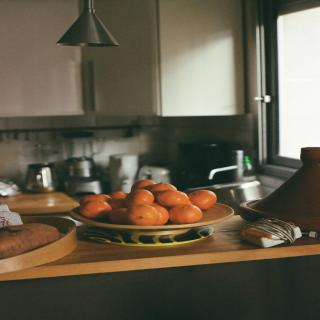Orange: (175, 205, 213, 223), (126, 205, 160, 223), (190, 190, 222, 207), (78, 202, 111, 216), (125, 186, 148, 206), (158, 190, 186, 204), (78, 192, 111, 201), (151, 182, 172, 196), (109, 188, 126, 204), (112, 203, 125, 219), (140, 180, 155, 189), (160, 208, 168, 220)
